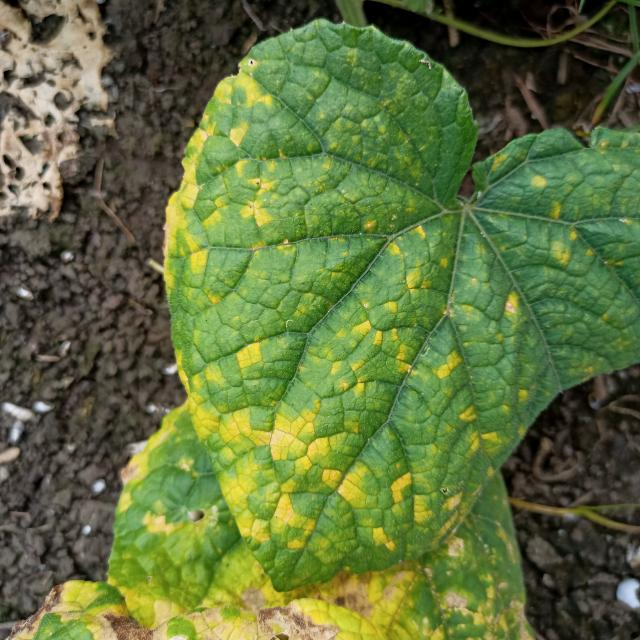disease_cucumber: (168, 40, 640, 571), (91, 469, 543, 640)
